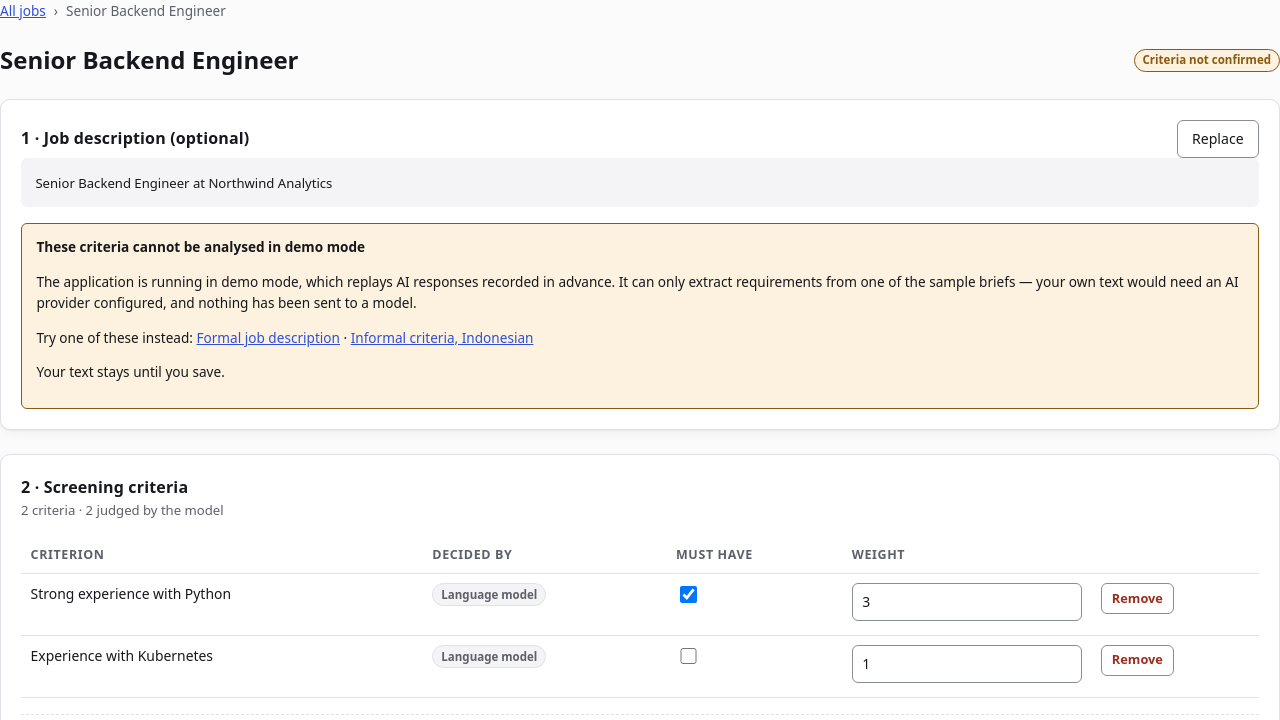
Scenario: JobPage › offers every sample brief the demo has recordings for
The image size is (1280, 720).
// The criteria already exist, so the editor is behind "Replace".
Click the button "Replace" at (1218, 139), box [1177,120,1259,158]
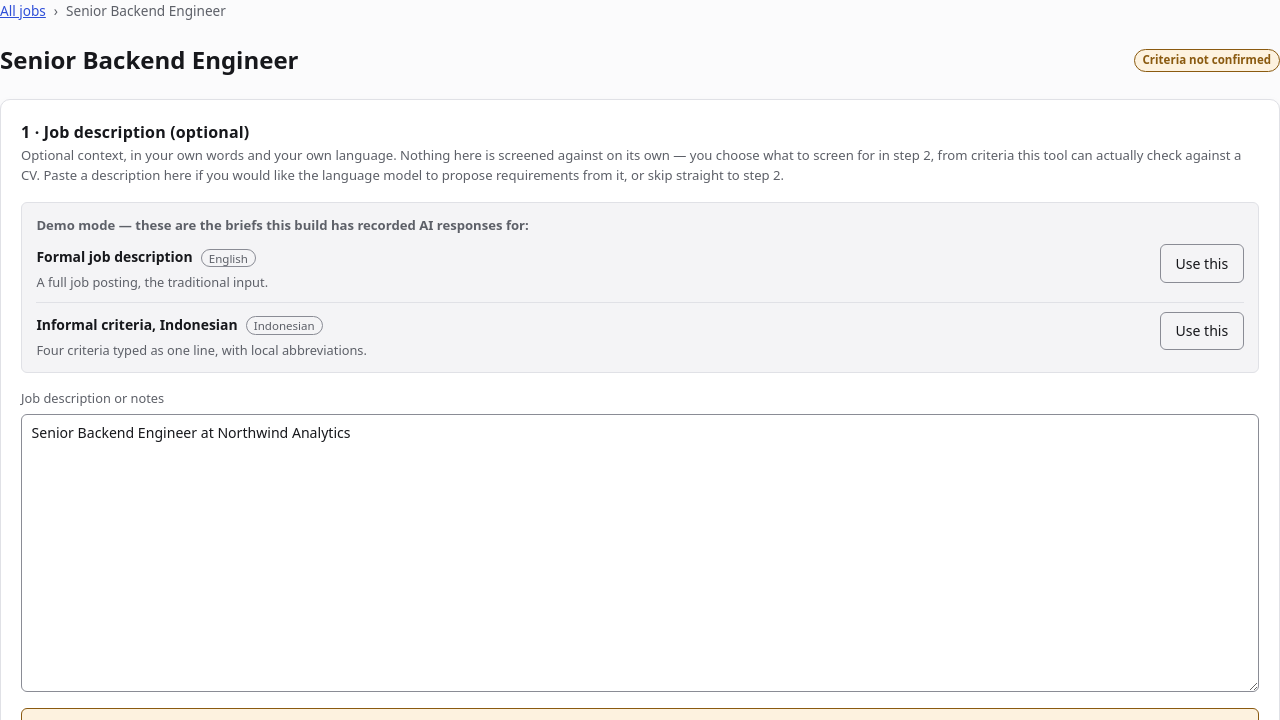
Expected: the text "Formal job description" is shown, [36,248,193,266]
Result: the number of buttons "Use this" is 2 at [1160,244,1244,283]; [1160,312,1244,350]
